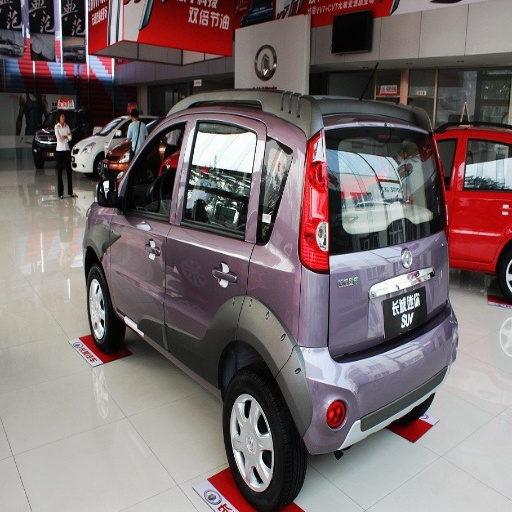back_left_door: (165, 113, 279, 377)
tailgate: (320, 135, 404, 205), (383, 258, 440, 327)
trunk: (333, 175, 442, 353)
